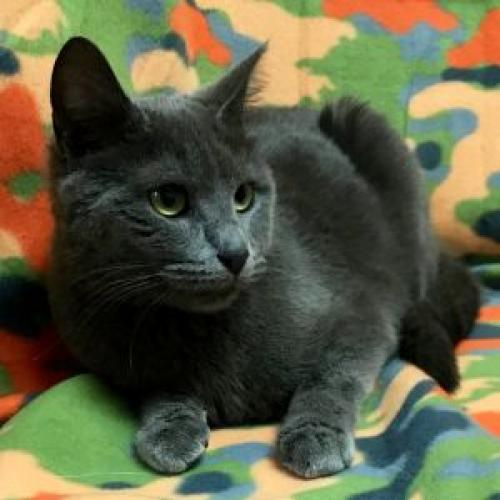rblue: (38, 26, 294, 325)
